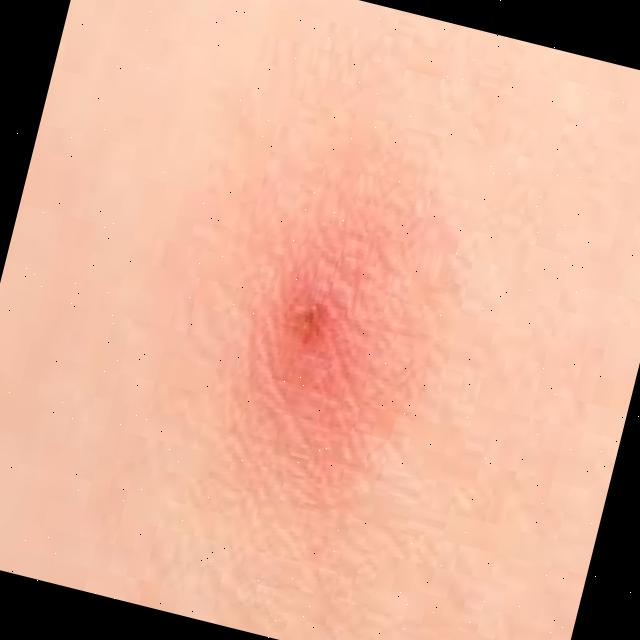kene: (113, 135, 493, 588)
